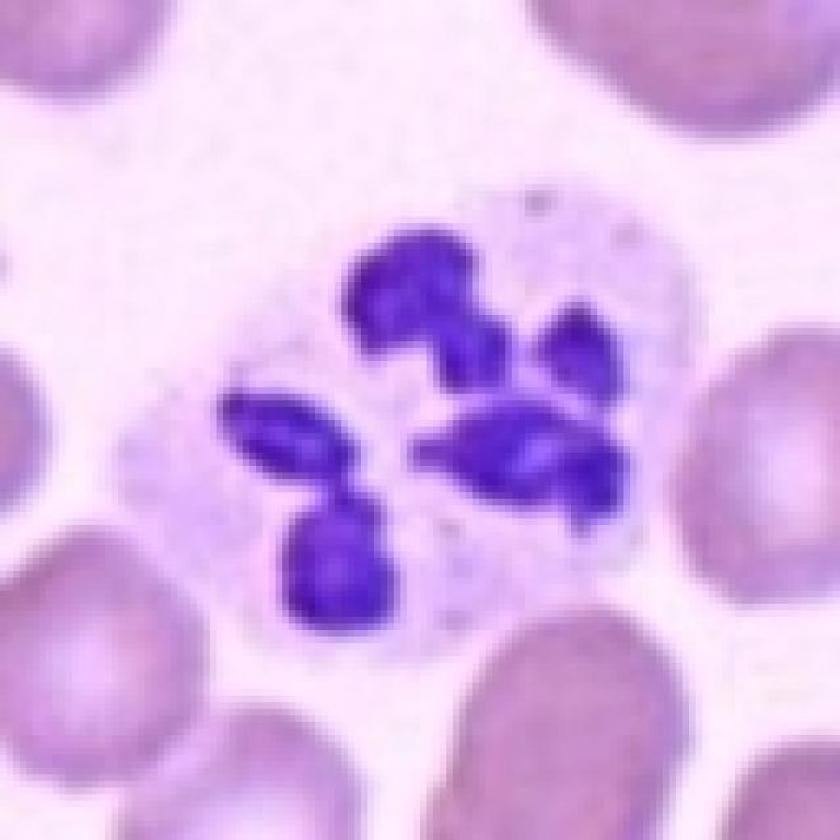neutrophil: (105, 189, 709, 670)
